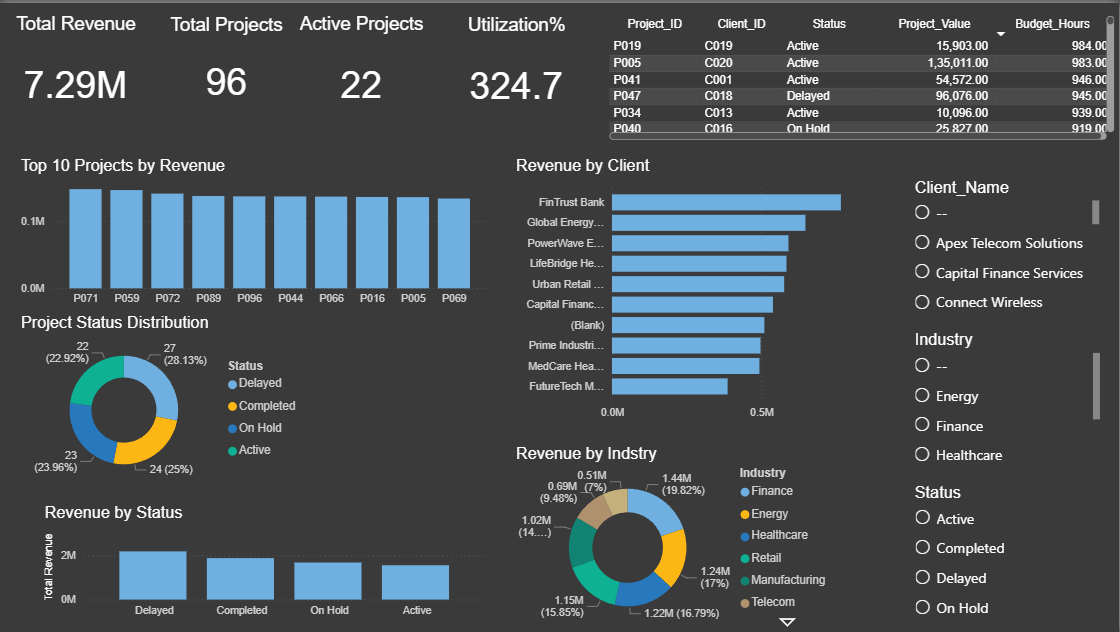

What the dashboard file says about the page in this screenshot:
{"tool":"powerbi","page":{"name":"Executive Summary","canvas":[1280,720],"ordinal":0},"visuals":[{"type":"cardVisual","title":"Total Revenue","fields":{"Data":["psod clients_cleaned.Total Revenue"]},"box":[10,11.4,155.7,134.3],"z":0},{"type":"cardVisual","title":"Total Projects","fields":{"Data":["psod projects_cleaned.Total Projects"]},"box":[181.4,12.9,157.1,122.9],"z":1000},{"type":"cardVisual","title":"Active Projects","fields":{"Data":["psod projects_cleaned.Active Projects"]},"box":[338.6,11.4,151.4,134.3],"z":2000},{"type":"cardVisual","title":"Delayed Projects","fields":{"Data":["psod projects_cleaned.Delayed_Projects"]},"box":[508.3,13.3,153.3,165],"z":3000},{"type":"cardVisual","title":"Utilization%","fields":{"Data":["psod timelogs_cleaned.Ulitlization%"]},"box":[508.6,12.9,165.7,132.9],"z":4000},{"type":"clusteredBarChart","title":"Revenue by Client","fields":{"Category":["psod clients_cleaned.Client_Name"],"Y":["psod clients_cleaned.Total Revenue"]},"box":[585.7,175.7,407.1,308.6],"z":5000},{"type":"donutChart","title":"Revenue by Indstry","fields":{"Y":["psod clients_cleaned.Total Revenue"],"Category":["psod clients_cleaned.Industry"]},"box":[585.7,504.3,372.9,215.7],"z":6000},{"type":"donutChart","title":"Project Status Distribution","fields":{"Category":["psod projects_cleaned.Status"],"Y":["CountNonNull(psod projects_cleaned.Project_ID)"]},"box":[20,354.3,332.9,201.4],"z":7000},{"type":"clusteredColumnChart","title":"Top 10 Projects by Revenue","fields":{"Category":["psod projects_cleaned.Project_ID"],"Y":["Sum(psod projects_cleaned.Project_Value)"]},"box":[20,175.7,542.9,178.6],"z":8000},{"type":"columnChart","title":"Revenue by Status","fields":{"Category":["psod projects_cleaned.Status"],"Y":["psod clients_cleaned.Total Revenue"]},"box":[47.1,571.4,515.7,138.6],"z":9000},{"type":"tableEx","fields":{"Values":["psod projects_cleaned.Project_ID","psod projects_cleaned.Client_ID","psod projects_cleaned.Status","psod projects_cleaned.Project_Value","psod projects_cleaned.Budget_Hours"]},"box":[691.4,10,588.6,151.4],"z":10000},{"type":"listSlicer","fields":{"Values":["psod clients_cleaned.Client_Name"]},"box":[1041.4,200,221.4,161.4],"z":12000},{"type":"listSlicer","fields":{"Values":["psod clients_cleaned.Industry"]},"box":[1041.4,374.3,222.9,162.9],"z":13000},{"type":"listSlicer","fields":{"Values":["psod projects_cleaned.Status"]},"box":[1041.4,548.6,224.3,161.4],"z":14000}]}

Visuals, with their boxes in screenshot pixels (x1, y1, x2, y2), scaled from the page's 1280x720 canvas onto the 1120x632 screenshot:
"Total Revenue" cardVisual: (9, 10, 145, 128)
"Total Projects" cardVisual: (159, 11, 296, 119)
"Active Projects" cardVisual: (296, 10, 429, 128)
"Delayed Projects" cardVisual: (445, 12, 579, 157)
"Utilization%" cardVisual: (445, 11, 590, 128)
"Revenue by Client" clusteredBarChart: (512, 154, 869, 425)
"Revenue by Indstry" donutChart: (512, 443, 839, 631)
"Project Status Distribution" donutChart: (18, 311, 309, 488)
"Top 10 Projects by Revenue" clusteredColumnChart: (18, 154, 493, 311)
"Revenue by Status" columnChart: (41, 502, 492, 623)
tableEx - psod projects_cleaned.Project_ID x psod projects_cleaned.Client_ID: (605, 9, 1119, 142)
listSlicer - psod clients_cleaned.Client_Name: (911, 176, 1105, 317)
listSlicer - psod clients_cleaned.Industry: (911, 329, 1106, 472)
listSlicer - psod projects_cleaned.Status: (911, 482, 1107, 623)
